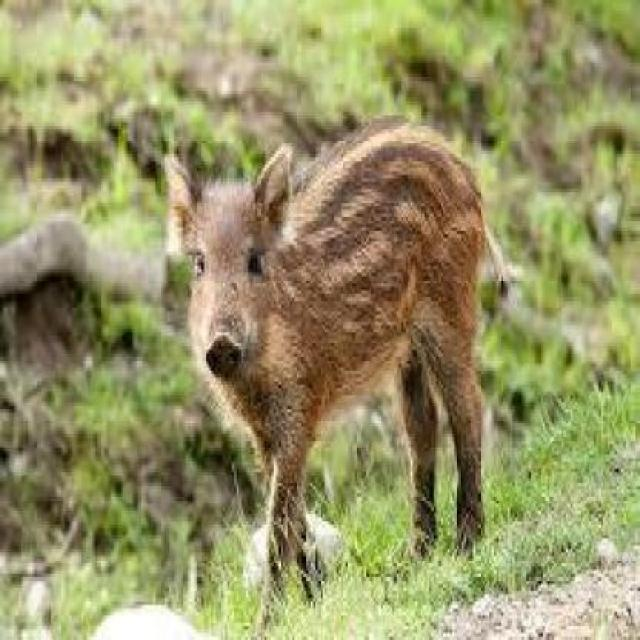wildboar: (166, 108, 512, 634)
